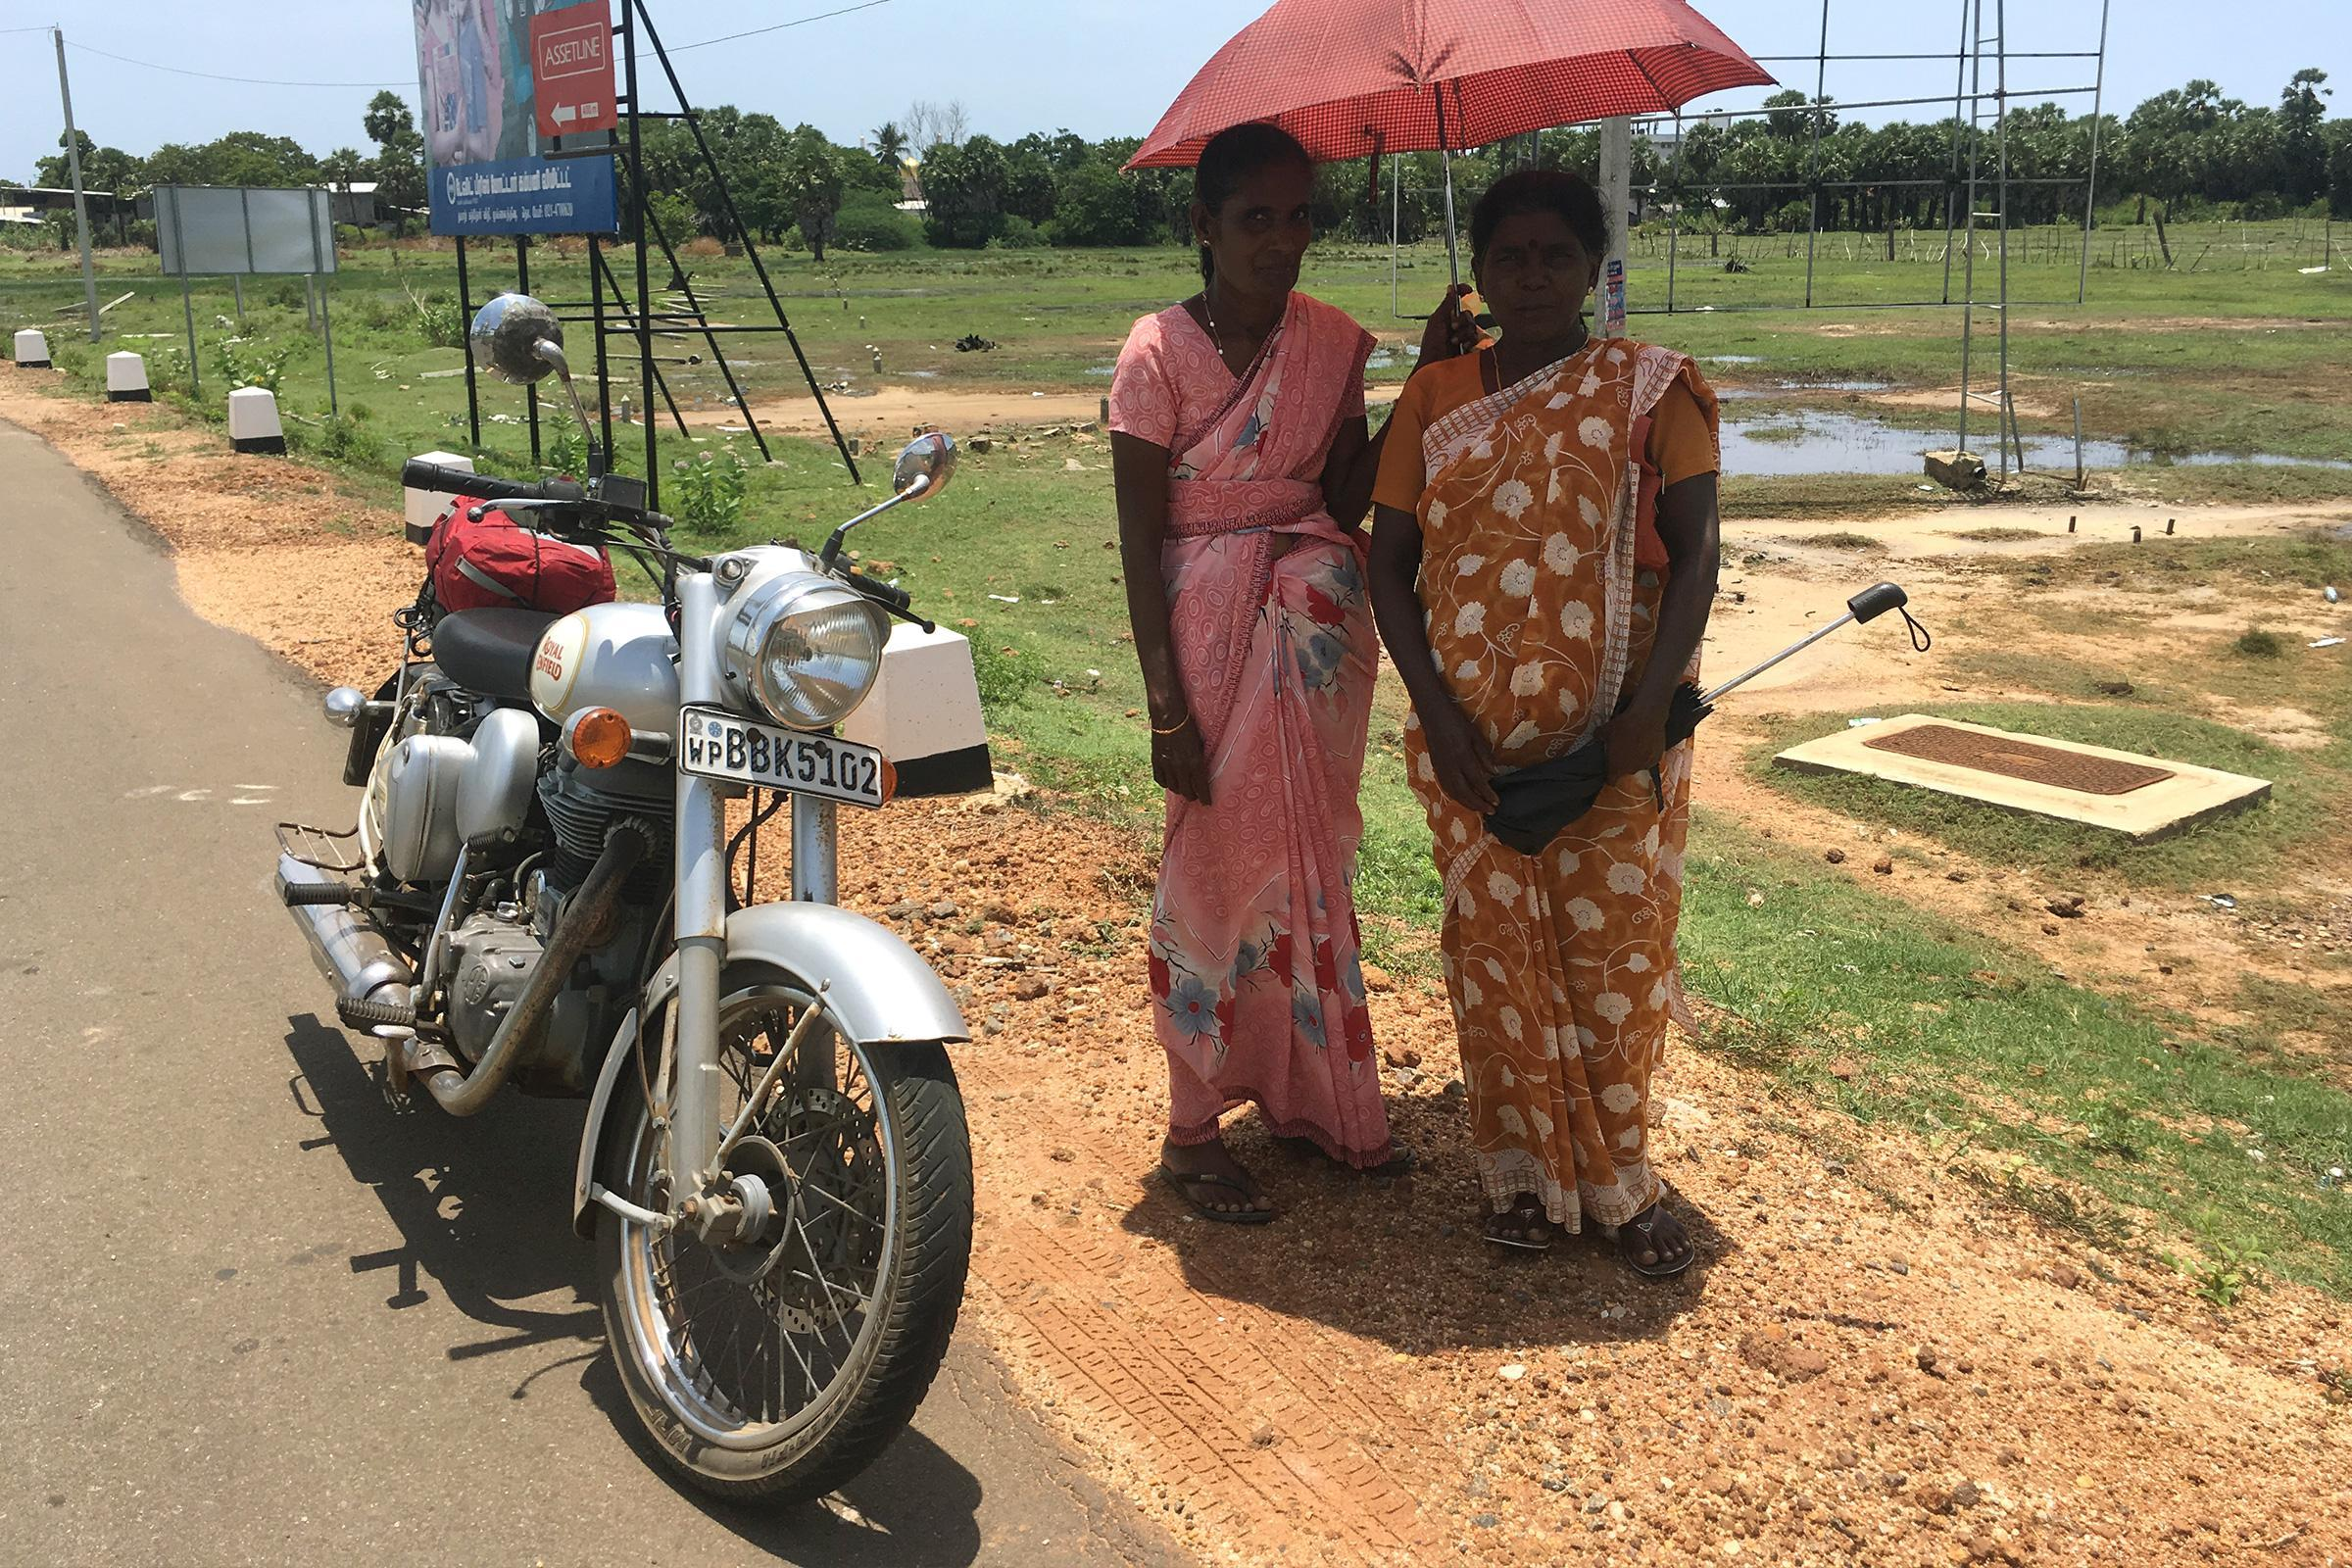motorbike: (271, 289, 968, 1510)
